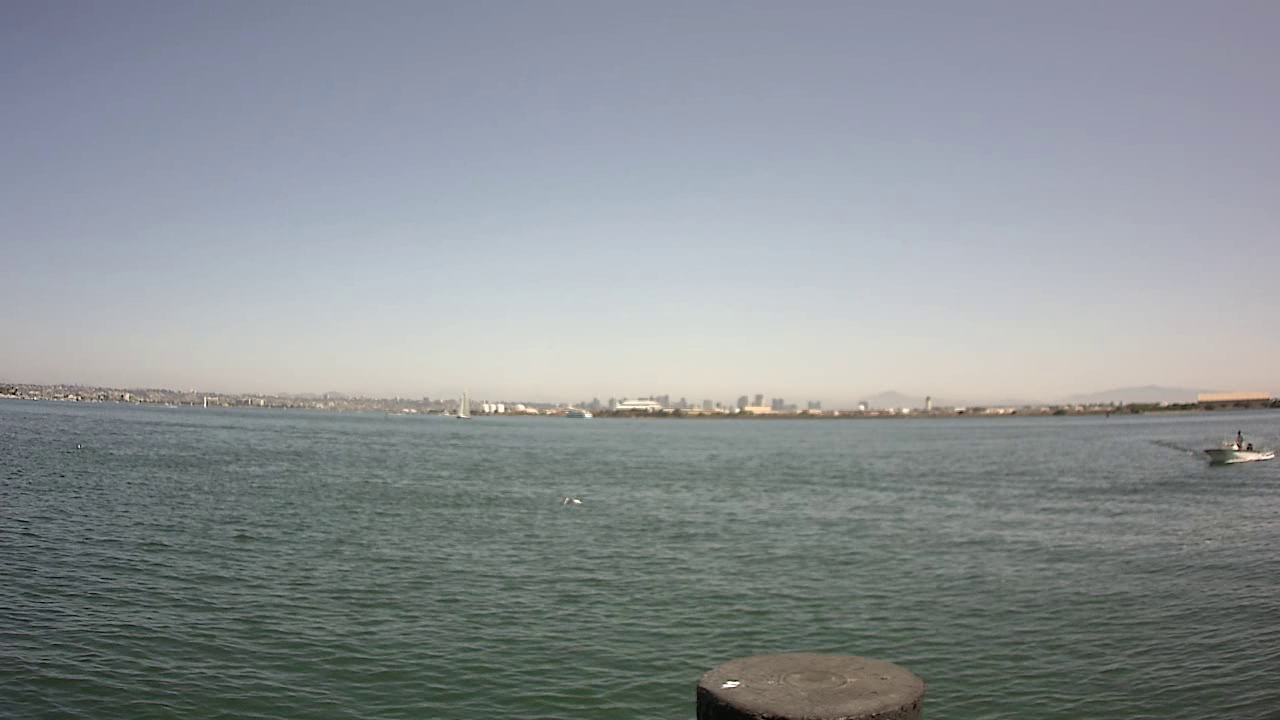target: (1195, 424, 1276, 469)
